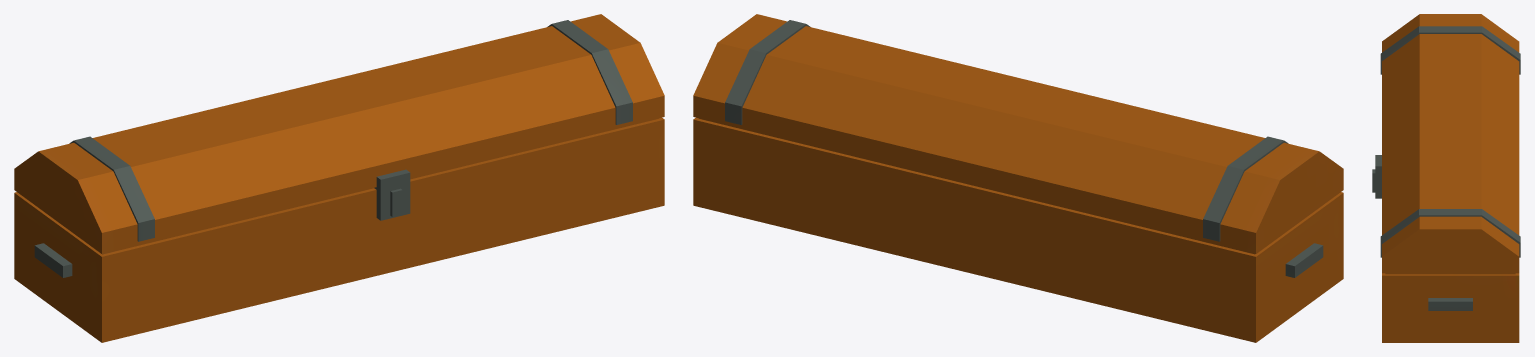
The model's file is kit-trough.glb.
The picture shows the model from 3 angles, left to right: view 1: azimuth 30°, elevation 25°; view 2: azimuth 150°, elevation 25°; view 3: azimuth 270°, elevation 25°; orthographic projection. The views are drawn at different scales.
Parts seen in each view (by area): view 1: Cube.299; view 2: Cube.299; view 3: Cube.299.
Part boxes in pixels (<box>): Cube.299: <box>14,14,664,342</box>; Cube.299: <box>693,14,1343,342</box>; Cube.299: <box>1372,14,1520,342</box>.
Bounding box in the file's own units: 2.14 × 0.516 × 0.6019.
1 material, 1 textured.
